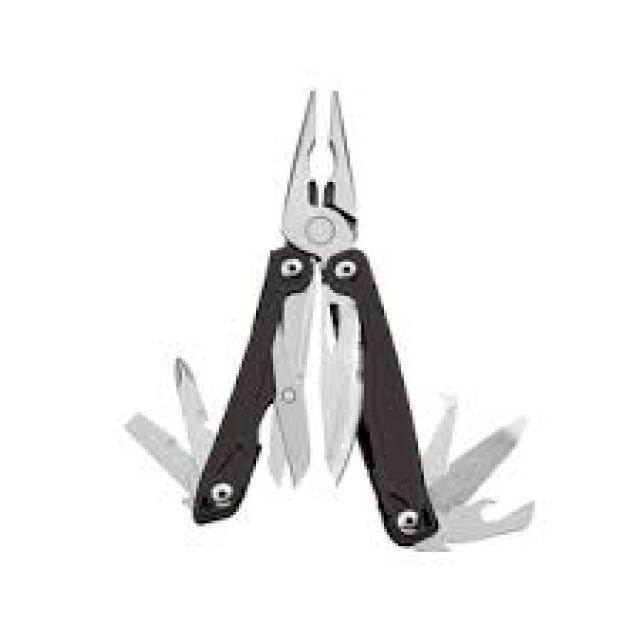pliers: (228, 77, 432, 552)
